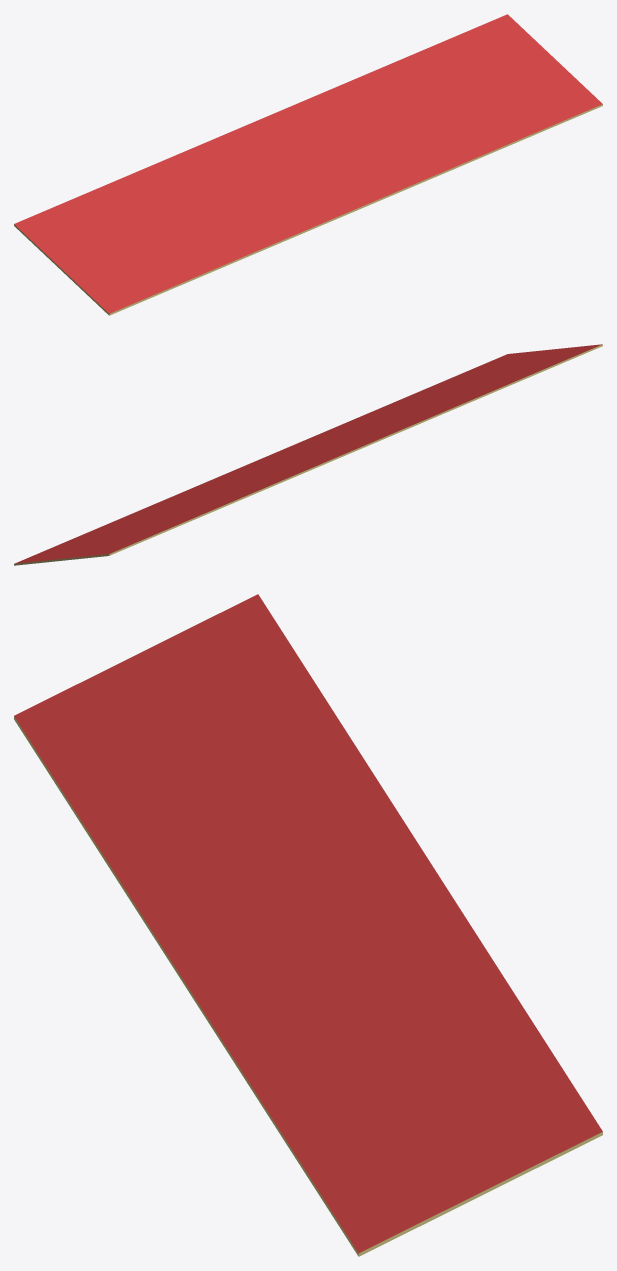
The picture shows the model from 3 angles, top to bottom: view 1: azimuth 30°, elevation 25°; view 2: azimuth 210°, elevation 25°; view 3: azimuth 270°, elevation 25°; orthographic projection. The views are drawn at different scales.
Bounding box in the file's own units: 34.32 × 15.11 × 2.76.
